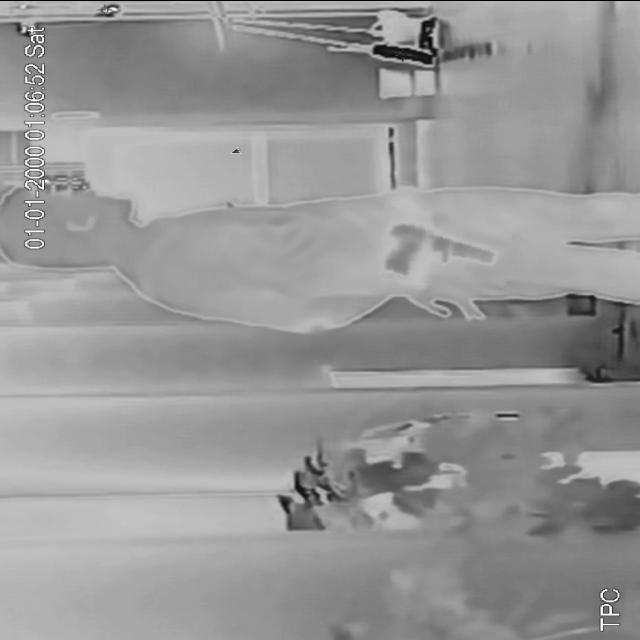Weapon: (382, 208, 512, 286)
